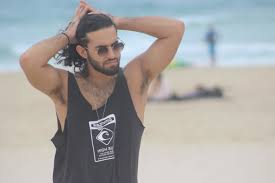middle_eastern_male: (72, 13, 126, 75)
